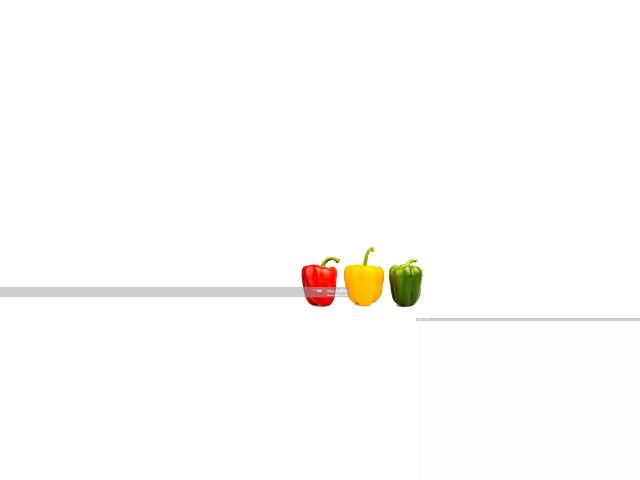bell_pepper: (390, 252, 426, 310)
